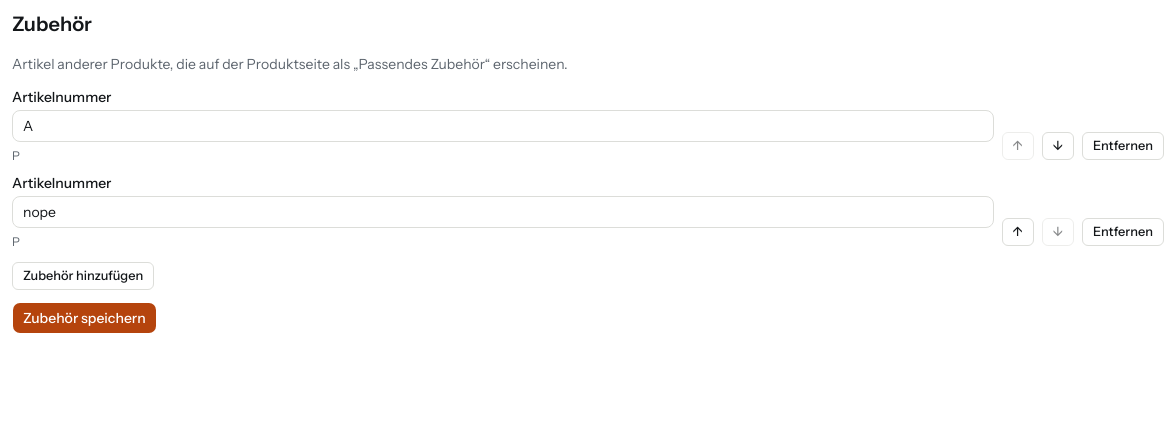
Test: AccessorySection submission › shows row and form errors with aria wiring
Click the button "Zubehör speichern".
click(84, 318)  # box [12,302,157,334]
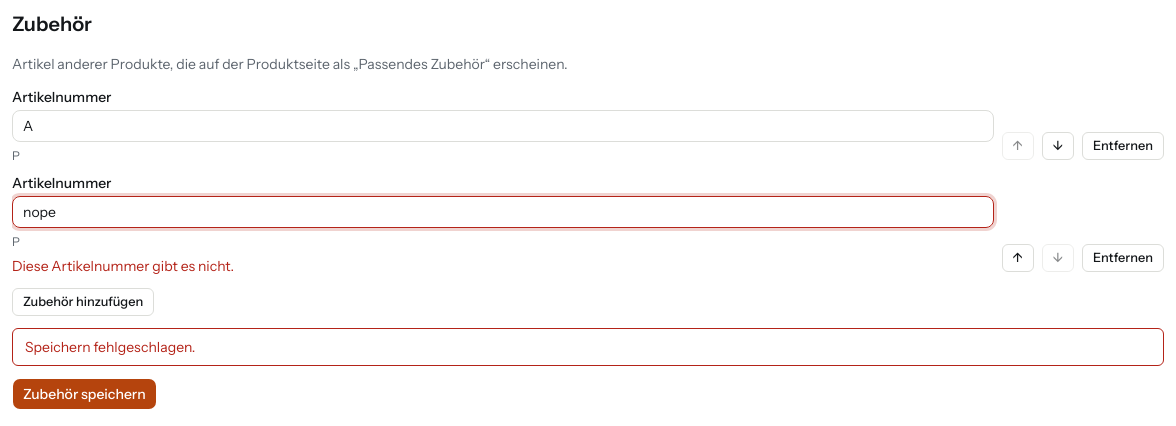
Check: the text "Diese Artikelnummer gibt es nicht." is shown, box [12,257,234,275]
Check: the message reads "Speichern fehlgeschlagen.", box [25,338,195,356]
